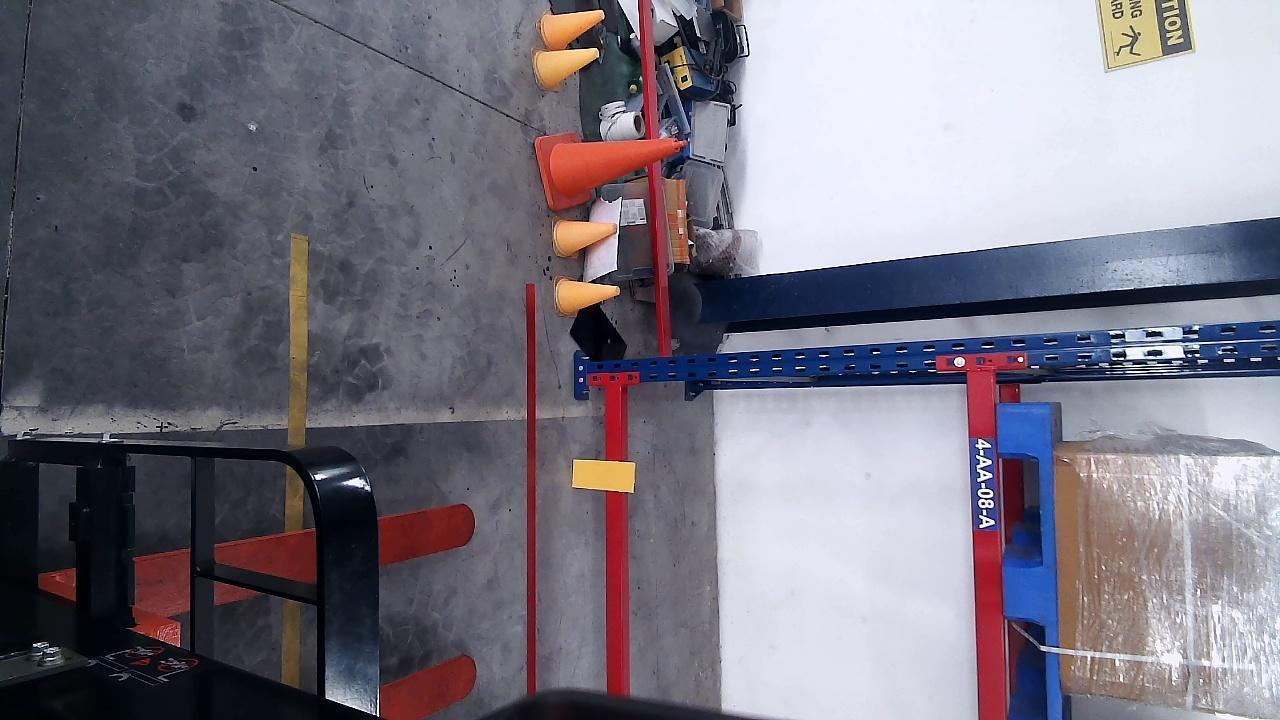red_line: (524, 282, 538, 692)
yellow_line: (285, 233, 311, 527)
